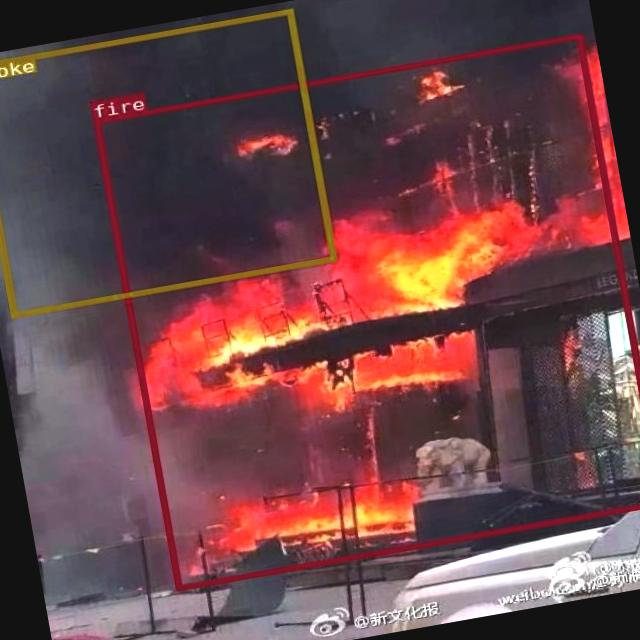fire: (92, 32, 640, 589)
smoke: (0, 7, 335, 317)
